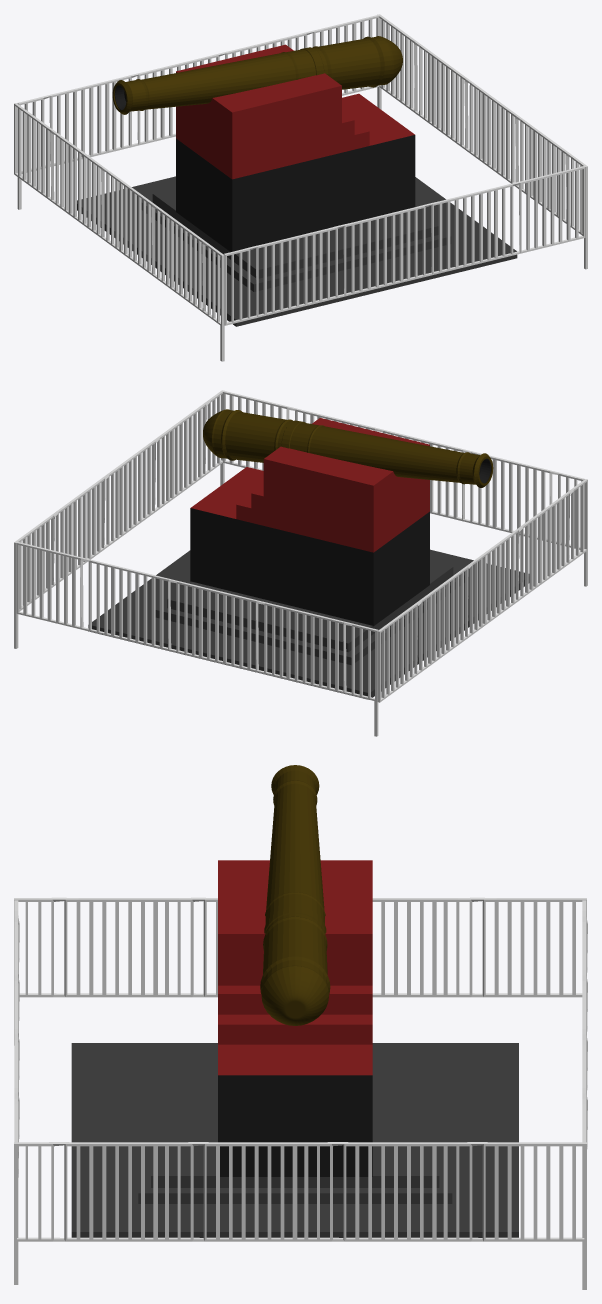
Rendered from Meriam.fbx.
3 renders of one model, top to bottom at view 1: azimuth 30°, elevation 25°; view 2: azimuth 150°, elevation 25°; view 3: azimuth 270°, elevation 25°, orthographic. The views are drawn at different scales.
Visible parts, largest first — view 1: Cube, Cube.001, Plane.003, Plane.002, Plane, Cylinder, Plane.001; view 2: Cube, Cube.001, Plane.001, Plane.002, Plane, Cylinder, Plane.003; view 3: Cube.001, Cube, Plane, Plane.002, Cylinder, Plane.001, Plane.003.
Boxes of the visible parts, <box> form: Cube: <box>176,44,415,251</box>; Cube.001: <box>77,176,517,326</box>; Plane.003: <box>223,166,585,325</box>; Plane.002: <box>14,103,224,361</box>; Plane: <box>377,14,587,269</box>; Cylinder: <box>112,36,402,114</box>; Plane.001: <box>17,15,379,209</box>; Cube: <box>190,418,429,626</box>; Cube.001: <box>88,549,529,699</box>; Plane.001: <box>16,542,378,736</box>; Plane.002: <box>377,479,587,702</box>; Plane: <box>14,390,224,648</box>; Cylinder: <box>203,409,493,487</box>; Plane.003: <box>222,391,584,549</box>; Cube.001: <box>71,1043,518,1237</box>; Cube: <box>218,860,372,1176</box>; Plane: <box>14,1142,586,1289</box>; Plane.002: <box>14,897,586,1045</box>; Cylinder: <box>260,765,330,1025</box>; Plane.001: <box>582,900,587,1237</box>; Plane.003: <box>14,900,19,1237</box>.
Bounding box in the file's own units: 754 × 402 × 741.
